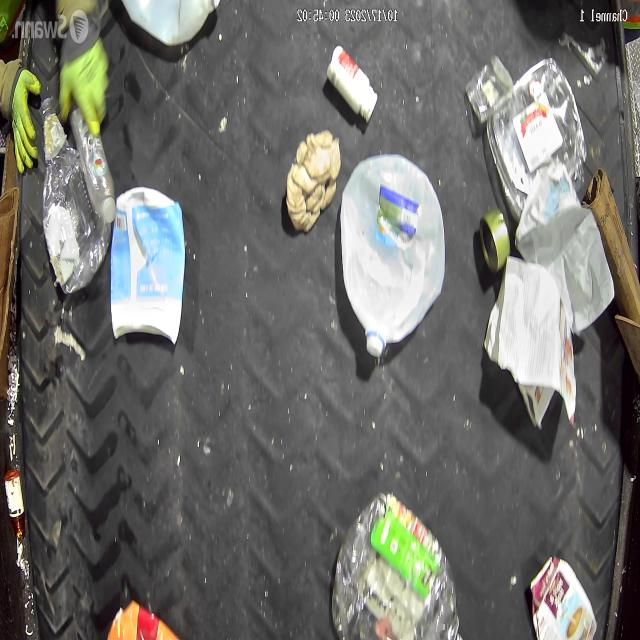can: (476, 209, 508, 275)
milk_jug: (340, 151, 446, 361)
plastic_bottle: (40, 96, 112, 296), (70, 107, 116, 222)
